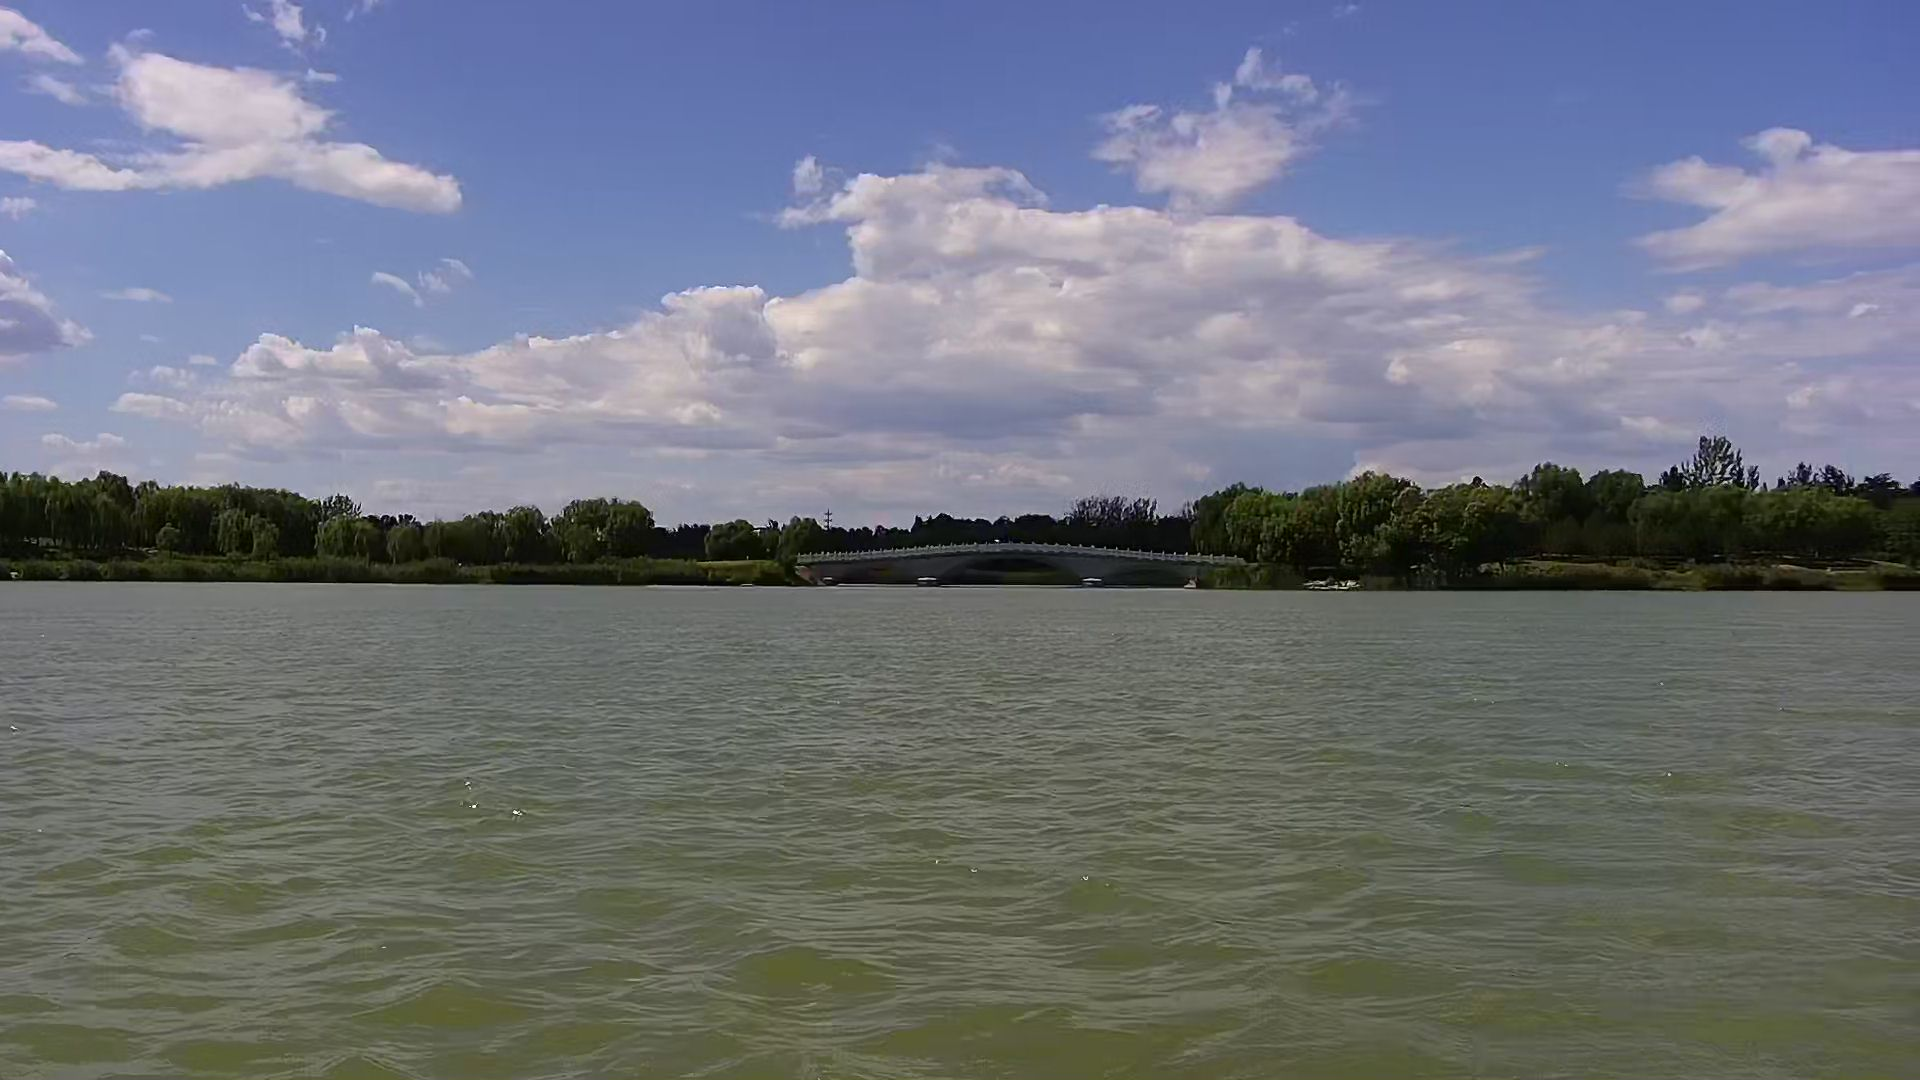bridge: (800, 537, 1242, 591)
